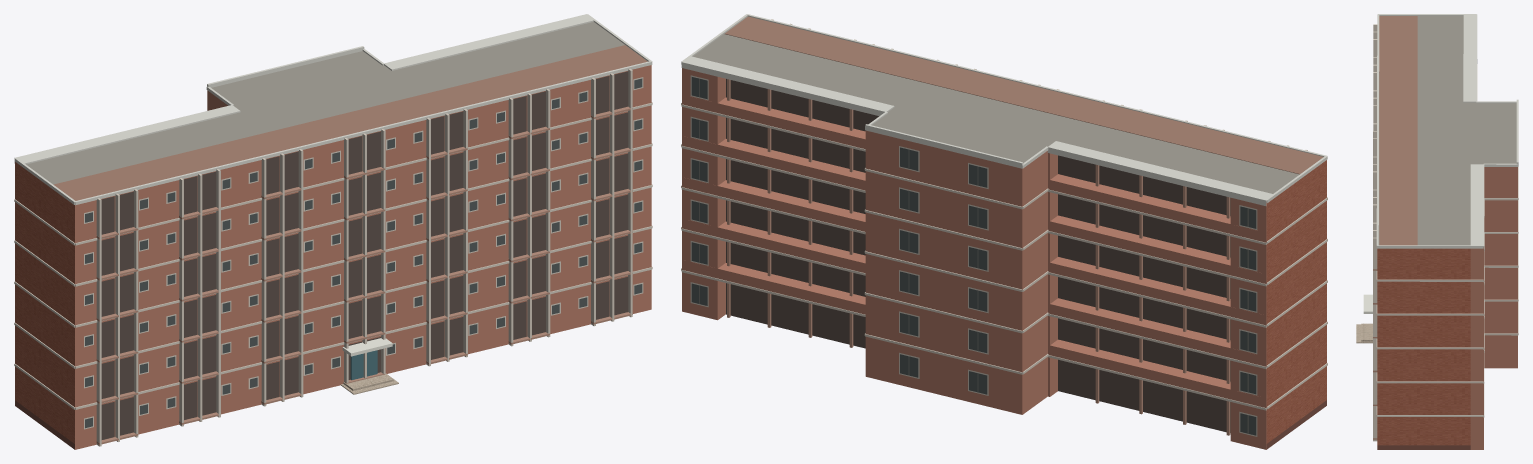
The model's file is chunk-dorm-way-759129519.glb.
3 renders of one model, left to right at view 1: azimuth 30°, elevation 25°; view 2: azimuth 150°, elevation 25°; view 3: azimuth 270°, elevation 25°, orthographic. The views are drawn at different scales.
Parts seen in each view (by area): view 1: chunk-dorm-way-759129519; view 2: chunk-dorm-way-759129519; view 3: chunk-dorm-way-759129519.
Part boxes in pixels (box(x1,y1,x2,y2)): chunk-dorm-way-759129519: box(14, 14, 652, 449); chunk-dorm-way-759129519: box(681, 14, 1327, 449); chunk-dorm-way-759129519: box(1356, 14, 1518, 449).
Bounding box in the file's own units: 48.6 × 20.11 × 14.38.
Materials: 14 (2 with a texture image).
